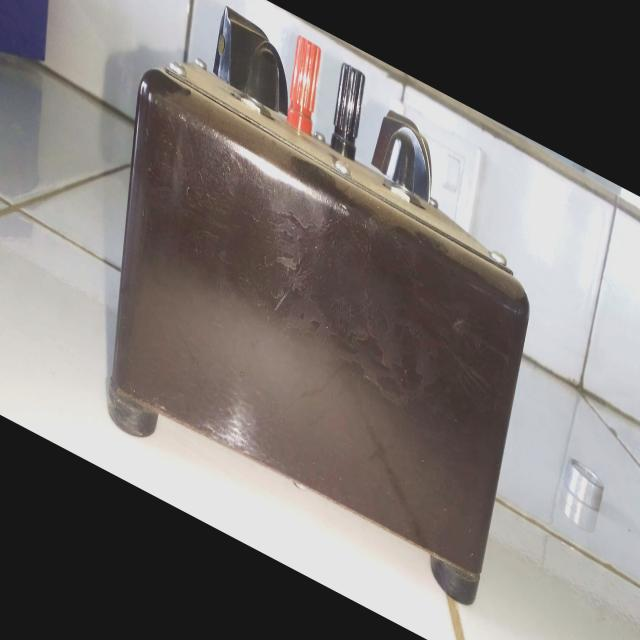Decade Capacitance Box: (87, 0, 547, 630)
